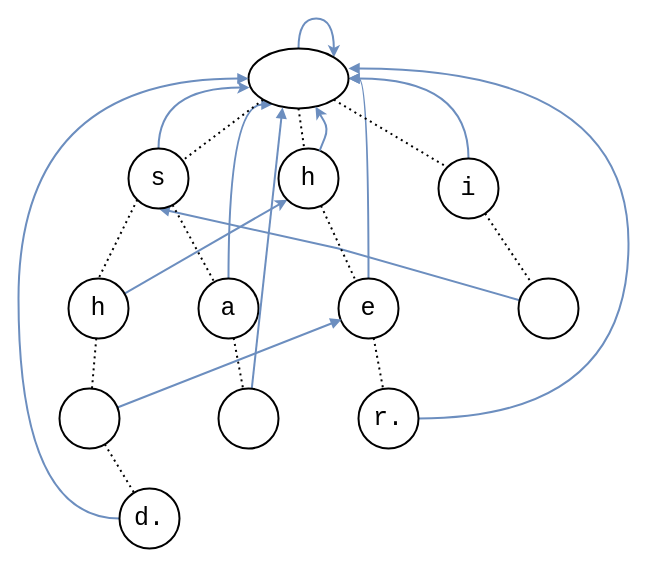
This 646x566 diagram has some shape labels left out. The shapes that lost their labels are listed below. From the top down, each one's centre as x and y in pixels, then its label:
the point at 298,78: root
the point at 548,308: s.
the point at 89,418: e.
the point at 248,418: y.
